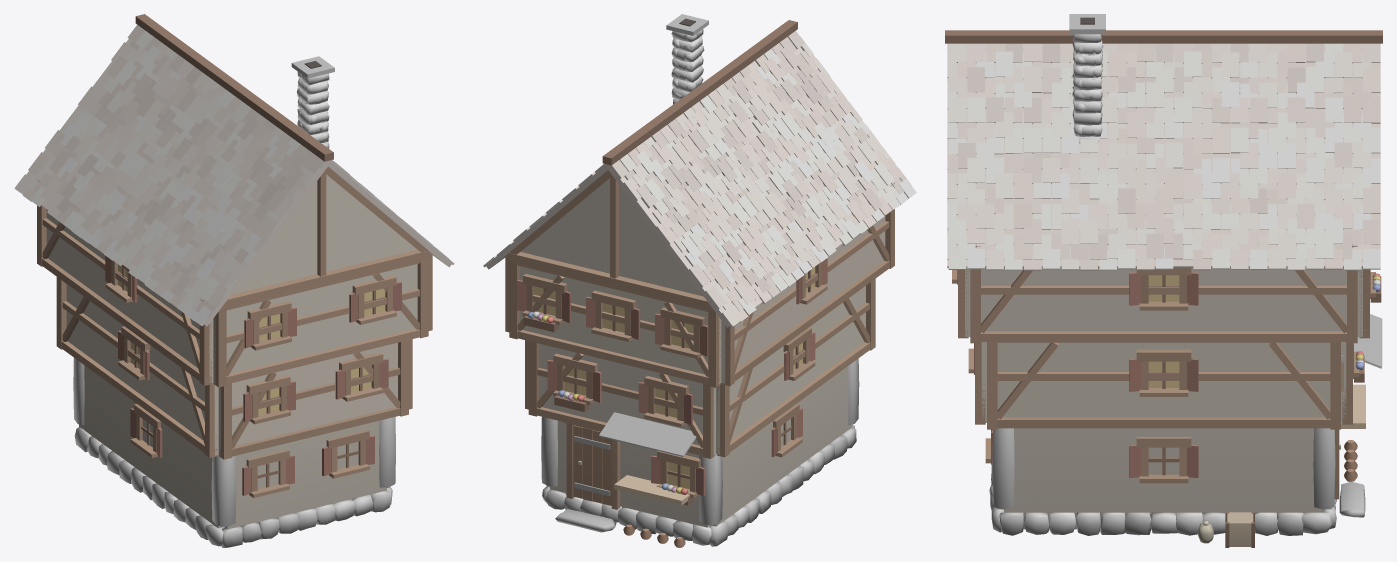
File: hw_medieval_townhouse.glb
The picture shows the model from 3 angles, left to right: view 1: azimuth 30°, elevation 25°; view 2: azimuth 150°, elevation 25°; view 3: azimuth 270°, elevation 25°; orthographic projection. The views are drawn at different scales.
Parts seen in each view (by area): view 1: Building; view 2: Building; view 3: Building.
Boxes of the visible parts, x1,y1,x2,y2 form: Building: [14, 14, 454, 547]; Building: [483, 14, 916, 547]; Building: [945, 14, 1382, 547].
Size of the model in its own units: 4.45 by 7.15 by 5.74.
